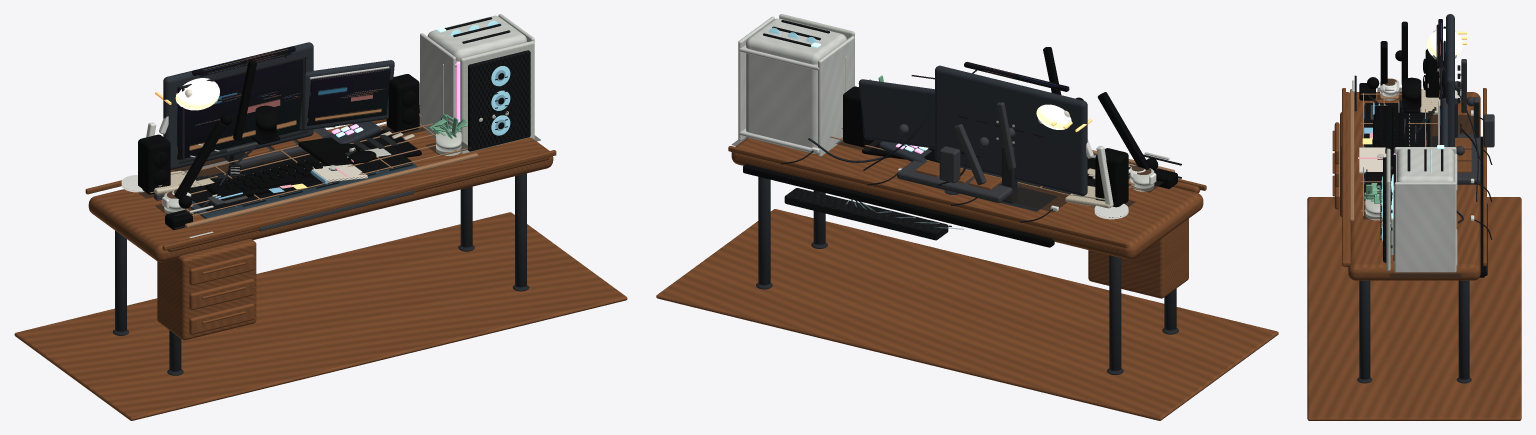
Rendered from p2s_premium_workstation_hero_v6.glb.
3 views of the same model, side by side, from view 1: azimuth 30°, elevation 25°; view 2: azimuth 150°, elevation 25°; view 3: azimuth 270°, elevation 25° (orthographic). The views are drawn at different scales.
Parts seen in each view (by area): view 1: premium_workstation_v2_preview_floor_shadow_catcher, premium_workstation_oiled_oak_waterfall_top, premium_workstation_main_monitor_inner_screen, premium_workstation_left_lacquer_drawer_carcase, premium_workstation_v3_pc_front_deep_mesh_insert, premium_workstation_side_display_blue_screen, premium_workstation_v2_pc_case_vertical_frame_0.94, premium_workstation_main_monitor_outer_shell, premium_workstation_v2_oak_end_grain_band_0.51, premium_workstation_white_pc_case_body, premium_workstation_v3_deskmat_top_charcoal_overlay, premium_workstation_v3_pc_front_outer_white_frame (+23 smaller); view 2: premium_workstation_v2_preview_floor_shadow_catcher, premium_workstation_oiled_oak_waterfall_top, premium_workstation_main_monitor_outer_shell, premium_workstation_white_pc_case_body, premium_workstation_side_display_shell, premium_workstation_left_lacquer_drawer_carcase, premium_workstation_rear_black_cable_raceway, premium_workstation_v2_pc_case_vertical_frame_0.94, premium_workstation_v2_underdesk_mesh_cable_tray, premium_workstation_v2_oak_end_grain_band_-0.51, premium_workstation_v2_aluminum_monitor_riser_shelf, premium_workstation_tapered_black_steel_leg_-1.32_-0.36 (+12 smaller); view 3: premium_workstation_v2_preview_floor_shadow_catcher, premium_workstation_oiled_oak_waterfall_top, premium_workstation_v2_pc_case_vertical_frame_1.54, premium_workstation_white_pc_case_body, premium_workstation_tapered_black_steel_leg_1.32_-0.36, premium_workstation_tapered_black_steel_leg_1.32_0.36, premium_workstation_v3_deskmat_top_charcoal_overlay, premium_workstation_main_monitor_outer_shell, premium_workstation_oak_front_soft_bullnose, premium_workstation_v2_oak_end_grain_band_0.51, premium_workstation_v2_aluminum_monitor_riser_shelf, premium_workstation_v6_desk_front_rounded_edge_highlight (+24 smaller).
Boxes of the visible parts, <box> form: premium_workstation_v2_preview_floor_shadow_catcher: <box>14,212,627,420</box>; premium_workstation_oiled_oak_waterfall_top: <box>88,117,553,262</box>; premium_workstation_main_monitor_inner_screen: <box>177,59,305,159</box>; premium_workstation_left_lacquer_drawer_carcase: <box>157,239,256,340</box>; premium_workstation_v3_pc_front_deep_mesh_insert: <box>468,50,530,151</box>; premium_workstation_side_display_blue_screen: <box>307,69,390,125</box>; premium_workstation_v2_pc_case_vertical_frame_0.94: <box>420,33,456,138</box>; premium_workstation_main_monitor_outer_shell: <box>163,42,313,169</box>; premium_workstation_v2_oak_end_grain_band_0.51: <box>162,150,556,250</box>; premium_workstation_white_pc_case_body: <box>427,15,526,61</box>; premium_workstation_v3_deskmat_top_charcoal_overlay: <box>188,136,412,212</box>; premium_workstation_v3_pc_front_outer_white_frame: <box>460,41,534,153</box>; premium_workstation_v2_preview_floor_shadow_catcher: <box>656,209,1278,420</box>; premium_workstation_oiled_oak_waterfall_top: <box>731,138,1203,259</box>; premium_workstation_main_monitor_outer_shell: <box>935,65,1087,195</box>; premium_workstation_white_pc_case_body: <box>746,18,846,153</box>; premium_workstation_side_display_shell: <box>858,79,934,148</box>; premium_workstation_left_lacquer_drawer_carcase: <box>1088,218,1188,298</box>; premium_workstation_rear_black_cable_raceway: <box>743,164,1054,247</box>; premium_workstation_v2_pc_case_vertical_frame_0.94: <box>818,36,854,156</box>; premium_workstation_v2_underdesk_mesh_cable_tray: <box>784,188,948,240</box>; premium_workstation_v2_oak_end_grain_band_-0.51: <box>728,146,1128,247</box>; premium_workstation_v2_aluminum_monitor_riser_shelf: <box>897,160,1020,202</box>; premium_workstation_tapered_black_steel_leg_-1.32_-0.36: <box>1109,255,1121,370</box>; premium_workstation_v2_preview_floor_shadow_catcher: <box>1307,197,1521,420</box>; premium_workstation_oiled_oak_waterfall_top: <box>1348,92,1480,280</box>; premium_workstation_v2_pc_case_vertical_frame_1.54: <box>1394,182,1456,272</box>; premium_workstation_white_pc_case_body: <box>1396,148,1454,181</box>; premium_workstation_tapered_black_steel_leg_1.32_-0.36: <box>1458,280,1469,379</box>; premium_workstation_tapered_black_steel_leg_1.32_0.36: <box>1359,280,1370,379</box>; premium_workstation_v3_deskmat_top_charcoal_overlay: <box>1365,103,1430,193</box>; premium_workstation_main_monitor_outer_shell: <box>1446,14,1454,146</box>; premium_workstation_oak_front_soft_bullnose: <box>1344,92,1350,266</box>; premium_workstation_v2_oak_end_grain_band_0.51: <box>1342,88,1345,266</box>; premium_workstation_v2_aluminum_monitor_riser_shelf: <box>1457,134,1480,184</box>; premium_workstation_v6_desk_front_rounded_edge_highlight: <box>1350,89,1354,221</box>.
Bounding box in the file's own units: 3.8 × 2.04 × 1.55.
42 materials, 1 textured.
